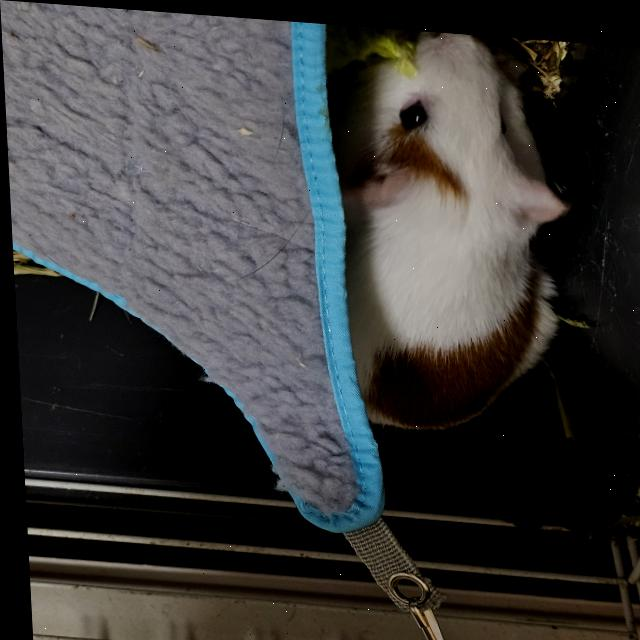guinea pig: (310, 18, 563, 435)
